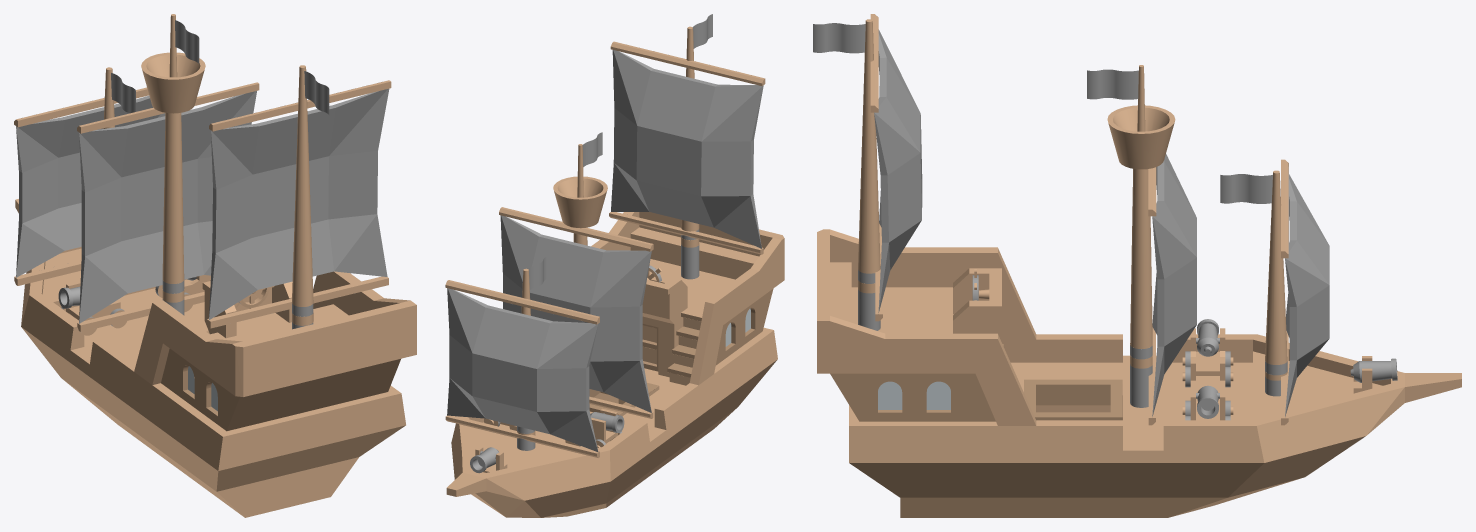
The model's file is ship-dark.glb.
3 views of the same model, side by side, from view 1: azimuth 30°, elevation 25°; view 2: azimuth 150°, elevation 25°; view 3: azimuth 270°, elevation 25° (orthographic). The views are drawn at different scales.
Visible parts, largest first — view 1: ship_dark_8angles, sail_back, sail_middle, sail_front, cannon_left; view 2: ship_dark_8angles, sail_back, sail_front, sail_middle, cannon_front.001, cannon_left, cannon_left.001; view 3: ship_dark_8angles, sail_back, sail_middle, sail_front, cannon_left, cannon_front.001, cannon_left.001.
Part boxes in pixels (<box>): ship_dark_8angles: <box>15,14,416,517</box>; sail_back: <box>207,80,391,328</box>; sail_middle: <box>77,82,259,331</box>; sail_front: <box>14,87,165,285</box>; cannon_left: <box>66,281,120,320</box>; ship_dark_8angles: <box>446,14,784,517</box>; sail_back: <box>609,41,765,254</box>; sail_front: <box>445,280,599,457</box>; sail_middle: <box>499,207,653,418</box>; cannon_front.001: <box>470,447,498,473</box>; cannon_left: <box>591,408,617,443</box>; cannon_left.001: <box>590,412,624,432</box>; ship_dark_8angles: <box>813,19,1461,517</box>; sail_back: <box>870,14,922,321</box>; sail_middle: <box>1148,154,1196,425</box>; sail_front: <box>1281,159,1329,425</box>; cannon_left: <box>1190,328,1225,380</box>; cannon_front.001: <box>1350,358,1397,382</box>; cannon_left.001: <box>1197,319,1218,356</box>.
Bounding box in the file's own units: 2.85 × 6.55 × 8.1.
